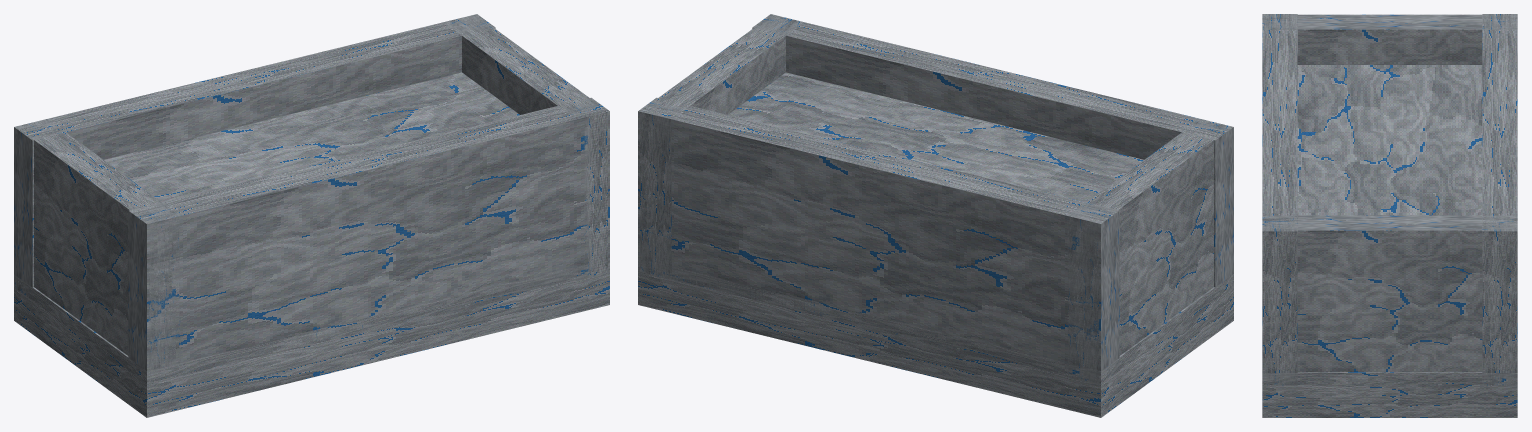
The model's file is bebedouro_de_pedra.glb.
3 renders of one model, left to right at view 1: azimuth 30°, elevation 25°; view 2: azimuth 150°, elevation 25°; view 3: azimuth 270°, elevation 25°, orthographic. The views are drawn at different scales.
Visible parts, largest first — view 1: bebedouro_de_pedra; view 2: bebedouro_de_pedra; view 3: bebedouro_de_pedra.
Part boxes in pixels (box(x1,y1,x2,y2)): bebedouro_de_pedra: box(14, 14, 609, 417); bebedouro_de_pedra: box(638, 14, 1233, 417); bebedouro_de_pedra: box(1262, 14, 1517, 417).
Size of the model in its own units: 1.45 by 0.58 by 0.72.
1 material, 1 textured.
